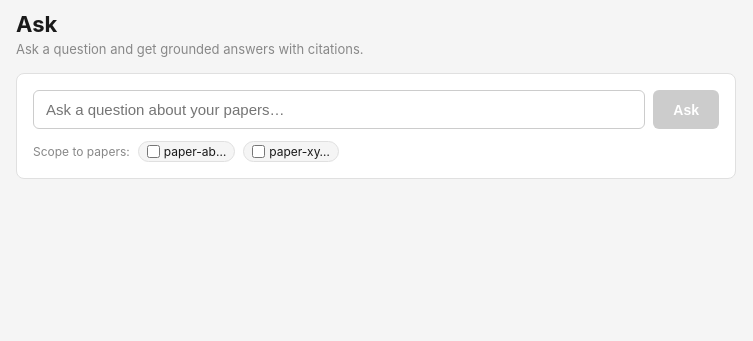
Ask screen › unanswerable question › renders abstain notice instead of answer
Type "unknown question" into the field with test id "ask-input" at (339, 110), box [33,90,645,129]
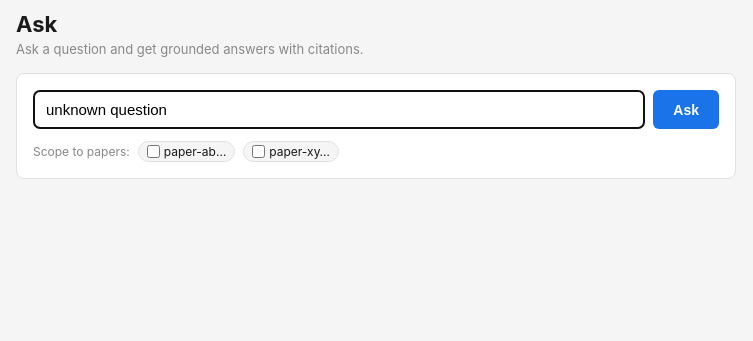
Click the button with test id "ask-submit" at (686, 110), box [653,90,719,129]
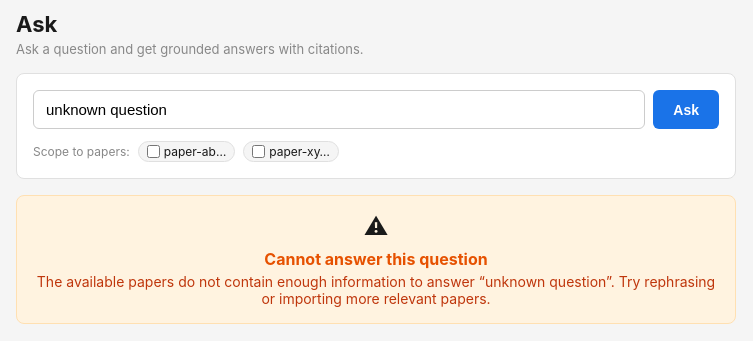
Check: the element with test id "abstain-notice" is shown, box [16,195,736,324]
Check: the heading "Cannot answer this question" is shown, box [264,249,488,269]
